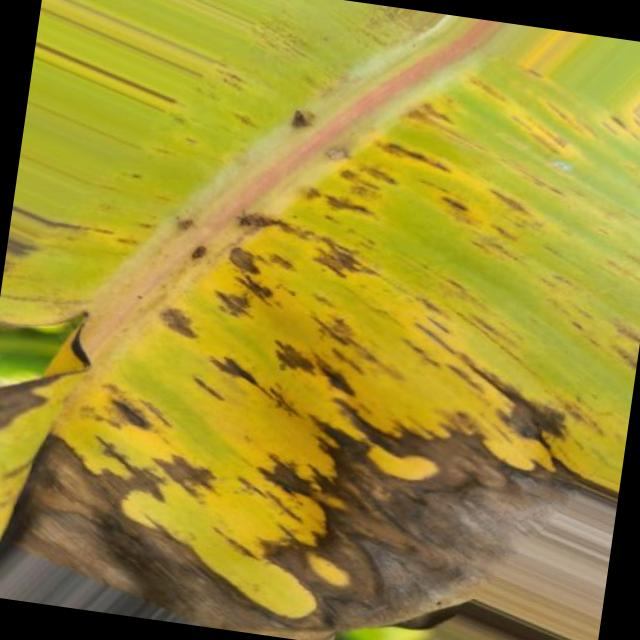Banana_Black_Sigatoka: (0, 263, 593, 640), (209, 64, 612, 364)
